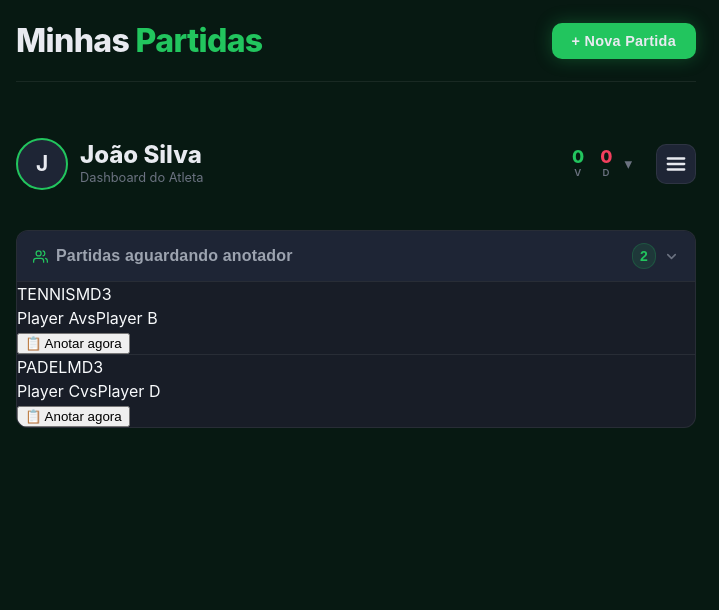
Test case: Dashboard — Seção colapsável: Partidas aguardando anotador › deve expandir novamente ao clicar duas vezes
This screenshot has width=719, height=610.
Click the button with test id "hamburger-btn": (676, 164) [656,144,696,184]
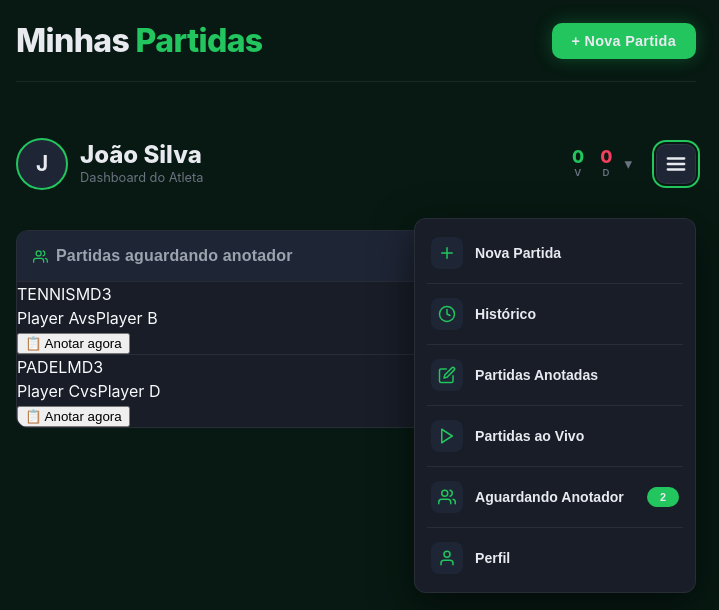
Click the menu item with test id "menu-pending": (555, 497) [415,469,695,525]
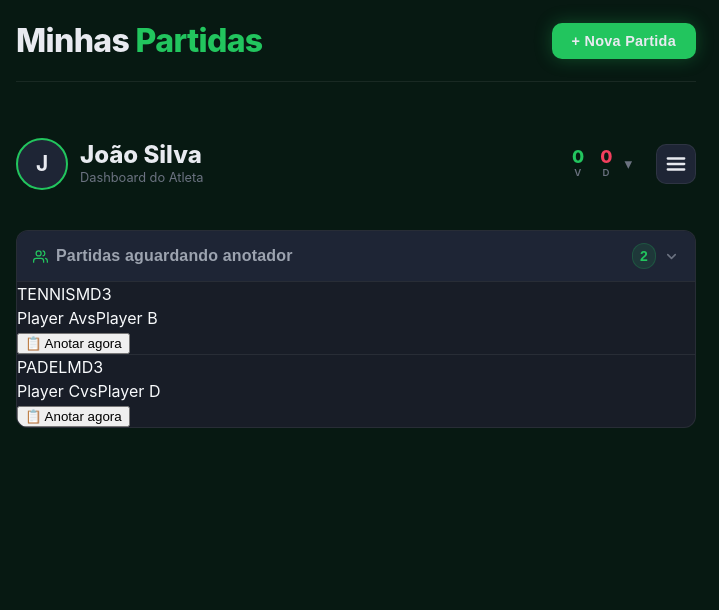
Click the button "Partidas aguardando anotador 2": (174, 256) [17,231,695,281]
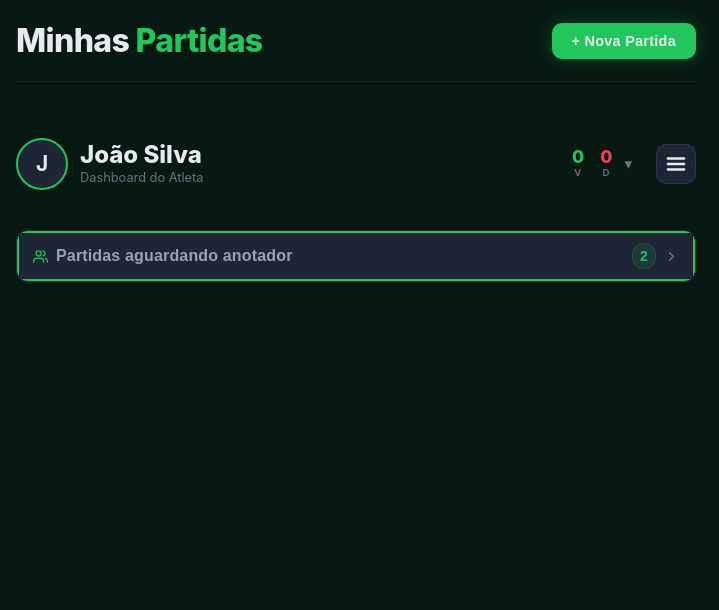
Result: the button "Partidas aguardando anotador 2" is collapsed
Click the button "Partidas aguardando anotador 2": (174, 256) [17,231,695,281]
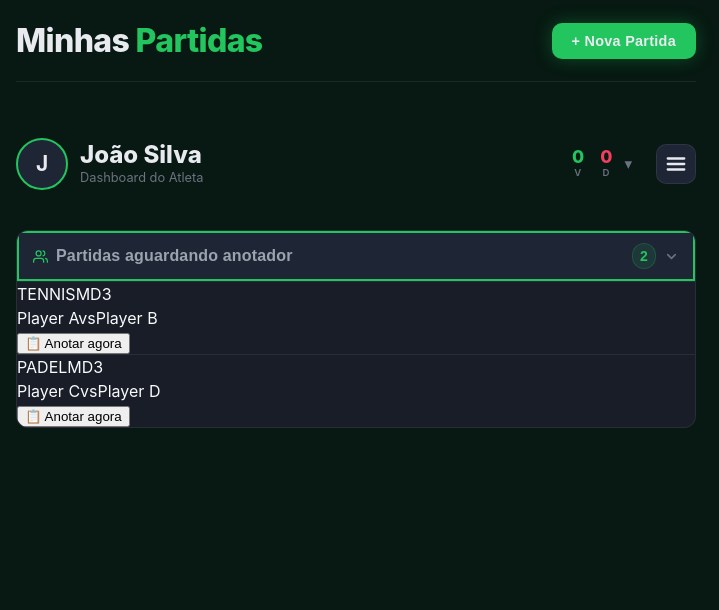
Result: the button "Partidas aguardando anotador 2" is expanded at [17,231,695,281]
